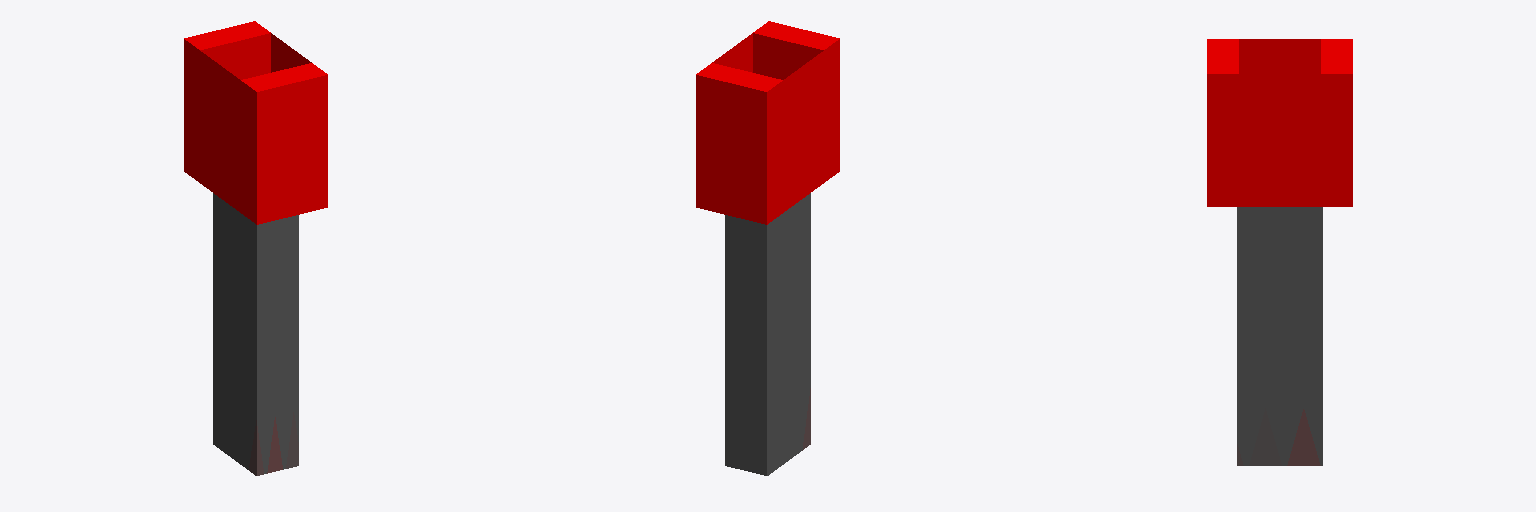
3 renders of one model, left to right at view 1: azimuth 30°, elevation 25°; view 2: azimuth 150°, elevation 25°; view 3: azimuth 270°, elevation 25°, orthographic.
Visible parts, largest first — view 1: Cube; view 2: Cube; view 3: Cube.
Part boxes in pixels (x1,y1,x2,y2): Cube: (184,21,327,475); Cube: (696,21,839,475); Cube: (1207,39,1352,465).
Bounding box in the file's own units: 1.64 × 8.76 × 2.92.
1 materials, 1 textured.